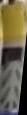cylinder: (1, 1, 27, 115)
